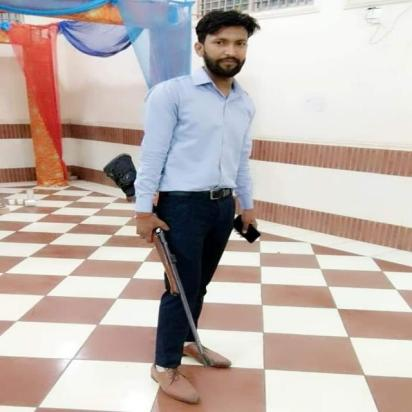Gun: (99, 152, 218, 372)
